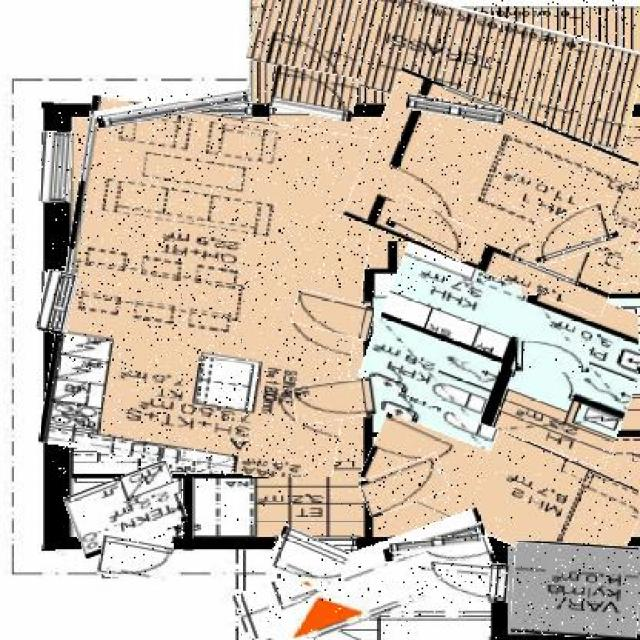door: (528, 206, 618, 262), (386, 203, 477, 254), (269, 532, 346, 591), (360, 460, 448, 511), (271, 68, 357, 119), (292, 380, 380, 423), (100, 534, 174, 583), (420, 563, 509, 603), (292, 294, 374, 337), (516, 340, 590, 372)
window: (95, 92, 251, 121), (383, 531, 486, 555), (37, 271, 75, 334), (40, 132, 72, 202), (408, 98, 506, 120), (389, 536, 480, 552)
zone: (52, 106, 372, 479), (352, 91, 640, 294), (366, 249, 640, 448), (249, 0, 640, 126), (363, 409, 640, 562), (234, 529, 497, 640), (512, 543, 640, 639), (372, 355, 511, 440), (192, 477, 366, 538), (66, 468, 185, 550), (517, 245, 640, 292)
